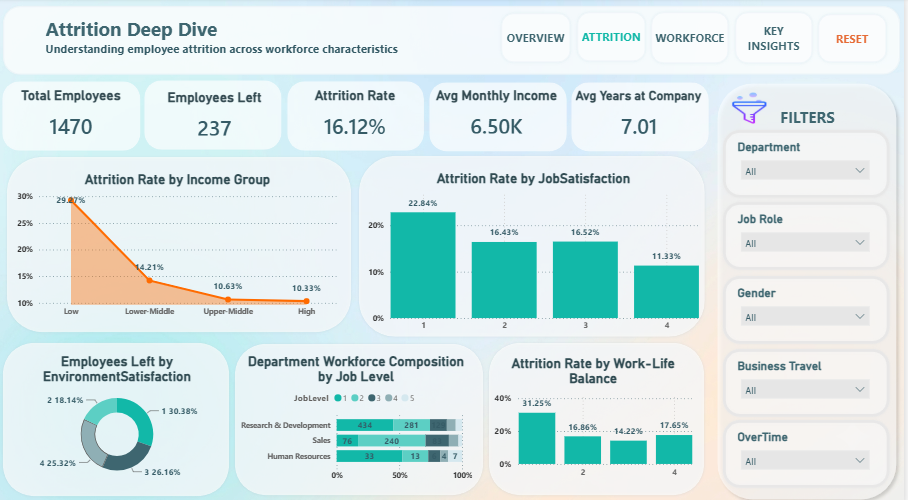

This screenshot's page, from the dashboard's own definition file:
{"tool":"powerbi","page":{"name":"Attrition Deep Dive","canvas":[1280,720],"ordinal":1},"visuals":[{"type":"shape","box":[0,7.1,1280,105.8],"z":0,"group":"g20"},{"type":"shape","box":[201.7,113.4,201,105],"z":0,"group":"g5"},{"type":"shape","box":[0,114.8,202.2,105],"z":0,"group":"g3"},{"type":"shape","box":[403.3,114.8,200.1,105],"z":0,"group":"g7"},{"type":"shape","box":[605,116.3,201.4,104.4],"z":0,"group":"g9"},{"type":"shape","box":[806.6,116.3,201.4,104.4],"z":0,"group":"g12"},{"type":"shape","box":[504.6,219.7,498.4,264.6],"z":0,"group":"g8"},{"type":"shape","box":[5.7,221.1,496.1,256.5],"z":0,"group":"g6"},{"type":"group","id":"g1","title":"Group 3","box":[0,484.7,328.8,225.4],"z":0},{"type":"shape","box":[0,484.7,328.8,225.4],"z":0,"group":"g1"},{"type":"shape","box":[688.8,484.7,313.2,223.9],"z":0,"group":"g10"},{"type":"shape","box":[328.8,486.1,360,222.5],"z":0,"group":"g4"},{"type":"shape","box":[705.8,17.1,107.3,78.7],"z":1000,"group":"g19"},{"type":"textbox","box":[60.1,20,536.3,77.2],"z":1000,"group":"g20"},{"type":"shape","box":[1008.3,111.6,271.7,607.8],"z":1000,"group":"g13"},{"type":"group","id":"g2","title":"Group 5","box":[0,113.4,1007.7,106.3],"z":1000},{"type":"cardVisual","title":"Avg Monthly Income","fields":{"Data":["employee_attrition.Average Monthly Income"]},"box":[606.5,126,194.2,83.6],"z":1000,"group":"g9"},{"type":"cardVisual","title":"Total Employees","fields":{"Data":["employee_attrition.Total Employees"]},"box":[11.3,126.5,178.6,85],"z":1000,"group":"g3"},{"type":"cardVisual","title":"Attrition Rate","fields":{"Data":["employee_attrition.Attrition Rate"]},"box":[414.2,126.5,175.7,85],"z":1000,"group":"g7"},{"type":"cardVisual","title":"Avg Years at Company","fields":{"Data":["employee_attrition.Average Years at Company"]},"box":[811.4,127.5,190.2,82.9],"z":1000,"group":"g12"},{"type":"cardVisual","title":"Employees Left","fields":{"Data":["employee_attrition.Employees Left"]},"box":[217.8,128.6,174.3,83.6],"z":1000,"group":"g5"},{"type":"clusteredColumnChart","fields":{"Y":["employee_attrition.Attrition Rate"],"Category":["employee_attrition.JobSatisfaction"]},"box":[522.2,243.4,469.1,233.9],"z":1000,"group":"g8"},{"type":"lineChart","title":"Attrition Rate by Income Group","fields":{"Y":["employee_attrition.Attrition Rate"],"Category":["employee_attrition.Income Group"]},"box":[24.6,245,455,212.6],"z":1000,"group":"g6"},{"type":"hundredPercentStackedBarChart","title":"Department Workforce Composition by Job Level","fields":{"Y":["employee_attrition.Total Employees"],"Category":["employee_attrition.Department"],"Series":["employee_attrition.JobLevel"]},"box":[340.4,502.9,328.8,187.1],"z":1000,"group":"g4"},{"type":"donutChart","fields":{"Y":["employee_attrition.Employees Left"],"Category":["employee_attrition.EnvironmentSatisfaction"]},"box":[12.6,503,306.1,186.4],"z":1000,"group":"g1"},{"type":"group","id":"g3","title":"Group 1","box":[0,114.8,202.2,105],"z":2000,"group":"g2"},{"type":"group","id":"g4","title":"Group 3","box":[328.8,486.1,360,222.5],"z":2000},{"type":"clusteredColumnChart","title":"Attrition Rate by Work-Life Balance","fields":{"Category":["employee_attrition.WorkLifeBalance"],"Y":["employee_attrition.Attrition Rate"]},"box":[700.1,505.3,281.4,179.4],"z":2000,"group":"g10"},{"type":"shape","box":[813.1,15.7,105.8,78.7],"z":3000,"group":"g19"},{"type":"group","id":"g5","title":"Group 1","box":[201.7,113.4,201,105],"z":3000,"group":"g2"},{"type":"group","id":"g6","title":"Group 3","box":[5.7,221.1,496.1,256.5],"z":3000},{"type":"shape","box":[1154.9,18.4,105.8,77.2],"z":4000,"group":"g19"},{"type":"group","id":"g7","title":"Group 1","box":[403.3,114.8,200.1,105],"z":4000,"group":"g2"},{"type":"group","id":"g8","title":"Group 3","box":[504.6,219.7,498.4,264.6],"z":4000},{"type":"shape","box":[918.9,15.5,118.7,81.5],"z":5000,"group":"g19"},{"type":"group","id":"g9","title":"Group 1","box":[605,116.3,201.4,104.4],"z":5000,"group":"g2"},{"type":"group","id":"g10","title":"Group 6","box":[688.8,484.7,313.2,223.9],"z":5000},{"type":"shape","box":[1021.2,183.1,244.6,104.4],"z":5500,"group":"g14"},{"type":"shape","box":[1021.2,284.7,244.6,104.4],"z":5500,"group":"g15"},{"type":"shape","box":[1021.2,389.1,244.6,104.4],"z":5500,"group":"g16"},{"type":"shape","box":[1021.2,493.5,244.6,104.4],"z":5500,"group":"g17"},{"type":"shape","box":[1021.2,593.6,244.6,104.4],"z":5500,"group":"g18"},{"type":"group","id":"g11","title":"Group 4","box":[0,7.1,1280,105.8],"z":6000},{"type":"shape","box":[1037.6,15.5,118.7,81.5],"z":6000,"group":"g19"},{"type":"group","id":"g12","title":"Group 1","box":[806.6,116.3,201.4,104.4],"z":6000,"group":"g2"},{"type":"image","box":[1019.1,129,86.5,53.9],"z":6000,"group":"g13"},{"type":"group","id":"g13","title":"Group 8","box":[1008.3,111.6,271.7,607.8],"z":7000},{"type":"textbox","box":[1036.1,147.9,217,42.7],"z":7000,"group":"g13"},{"type":"slicer","title":"Department","fields":{"Values":["employee_attrition.Department"]},"box":[1040.8,200.8,201.7,66.6],"z":8000,"group":"g14"},{"type":"slicer","title":"Job Role","fields":{"Values":["employee_attrition.JobRole"]},"box":[1040.8,302.4,201.7,66.6],"z":8000,"group":"g15"},{"type":"slicer","title":"Gender","fields":{"Values":["employee_attrition.Gender"]},"box":[1040.8,406.8,201.7,66.6],"z":8000,"group":"g16"},{"type":"slicer","title":"Business Travel","fields":{"Values":["employee_attrition.BusinessTravel"]},"box":[1040.8,511.2,201.7,66.6],"z":8000,"group":"g17"},{"type":"slicer","title":"OverTime","fields":{"Values":["employee_attrition.OverTime"]},"box":[1040.8,611.3,201.7,66.6],"z":8000,"group":"g18"},{"type":"group","id":"g14","title":"Group 7","box":[1021.2,183.1,244.6,104.4],"z":9000,"group":"g13"},{"type":"group","id":"g15","title":"Group 7","box":[1021.2,284.7,244.6,104.4],"z":10000,"group":"g13"},{"type":"group","id":"g16","title":"Group 7","box":[1021.2,389.1,244.6,104.4],"z":11000,"group":"g13"},{"type":"group","id":"g17","title":"Group 7","box":[1021.2,493.5,244.6,104.4],"z":12000,"group":"g13"},{"type":"group","id":"g18","title":"Group 7","box":[1021.2,593.6,244.6,104.4],"z":13000,"group":"g13"},{"type":"group","id":"g19","title":"Group 2","box":[705.8,15.5,555.6,82.2],"z":15001,"group":"g20"},{"type":"group","id":"g20","title":"Group 9","box":[0,7.1,1280,105.8],"z":15004,"group":"g11"}]}

Visuals, with their boxes in screenshot pixels (x1, y1, x2, y2), scaled from the page's 1280x720 canvas onto the 908x500 screenshot:
shape: [left=0, top=5, right=907, bottom=78]
shape: [left=143, top=79, right=286, bottom=152]
shape: [left=0, top=80, right=143, bottom=153]
shape: [left=286, top=80, right=428, bottom=153]
shape: [left=429, top=81, right=572, bottom=153]
shape: [left=572, top=81, right=715, bottom=153]
shape: [left=358, top=153, right=712, bottom=336]
shape: [left=4, top=154, right=356, bottom=332]
"Group 3" group: [left=0, top=337, right=233, bottom=493]
shape: [left=0, top=337, right=233, bottom=493]
shape: [left=489, top=337, right=711, bottom=492]
shape: [left=233, top=338, right=489, bottom=492]
shape: [left=501, top=12, right=577, bottom=67]
textbox: [left=43, top=14, right=423, bottom=68]
shape: [left=715, top=78, right=907, bottom=499]
"Group 5" group: [left=0, top=79, right=715, bottom=153]
"Avg Monthly Income" cardVisual: [left=430, top=88, right=568, bottom=146]
"Total Employees" cardVisual: [left=8, top=88, right=135, bottom=147]
"Attrition Rate" cardVisual: [left=294, top=88, right=418, bottom=147]
"Avg Years at Company" cardVisual: [left=576, top=89, right=711, bottom=146]
"Employees Left" cardVisual: [left=155, top=89, right=278, bottom=147]
clusteredColumnChart - employee_attrition.Attrition Rate x employee_attrition.JobSatisfaction: [left=370, top=169, right=703, bottom=331]
"Attrition Rate by Income Group" lineChart: [left=17, top=170, right=340, bottom=318]
"Department Workforce Composition by Job Level" hundredPercentStackedBarChart: [left=241, top=349, right=475, bottom=479]
donutChart - employee_attrition.Employees Left x employee_attrition.EnvironmentSatisfaction: [left=9, top=349, right=226, bottom=479]
"Group 1" group: [left=0, top=80, right=143, bottom=153]
"Group 3" group: [left=233, top=338, right=489, bottom=492]
"Attrition Rate by Work-Life Balance" clusteredColumnChart: [left=497, top=351, right=696, bottom=475]
shape: [left=577, top=11, right=652, bottom=66]
"Group 1" group: [left=143, top=79, right=286, bottom=152]
"Group 3" group: [left=4, top=154, right=356, bottom=332]
shape: [left=819, top=13, right=894, bottom=66]
"Group 1" group: [left=286, top=80, right=428, bottom=153]
"Group 3" group: [left=358, top=153, right=712, bottom=336]
shape: [left=652, top=11, right=736, bottom=67]
"Group 1" group: [left=429, top=81, right=572, bottom=153]
"Group 6" group: [left=489, top=337, right=711, bottom=492]
shape: [left=724, top=127, right=898, bottom=200]
shape: [left=724, top=198, right=898, bottom=270]
shape: [left=724, top=270, right=898, bottom=343]
shape: [left=724, top=343, right=898, bottom=415]
shape: [left=724, top=412, right=898, bottom=485]
"Group 4" group: [left=0, top=5, right=907, bottom=78]
shape: [left=736, top=11, right=820, bottom=67]
"Group 1" group: [left=572, top=81, right=715, bottom=153]
image: [left=723, top=90, right=784, bottom=127]
"Group 8" group: [left=715, top=78, right=907, bottom=499]
textbox: [left=735, top=103, right=889, bottom=132]
"Department" slicer: [left=738, top=139, right=881, bottom=186]
"Job Role" slicer: [left=738, top=210, right=881, bottom=256]
"Gender" slicer: [left=738, top=282, right=881, bottom=329]
"Business Travel" slicer: [left=738, top=355, right=881, bottom=401]
"OverTime" slicer: [left=738, top=425, right=881, bottom=471]
"Group 7" group: [left=724, top=127, right=898, bottom=200]
"Group 7" group: [left=724, top=198, right=898, bottom=270]
"Group 7" group: [left=724, top=270, right=898, bottom=343]
"Group 7" group: [left=724, top=343, right=898, bottom=415]
"Group 7" group: [left=724, top=412, right=898, bottom=485]
"Group 2" group: [left=501, top=11, right=895, bottom=68]
"Group 9" group: [left=0, top=5, right=907, bottom=78]
